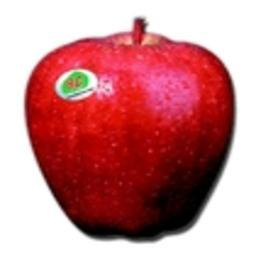apple: (25, 29, 236, 240)
